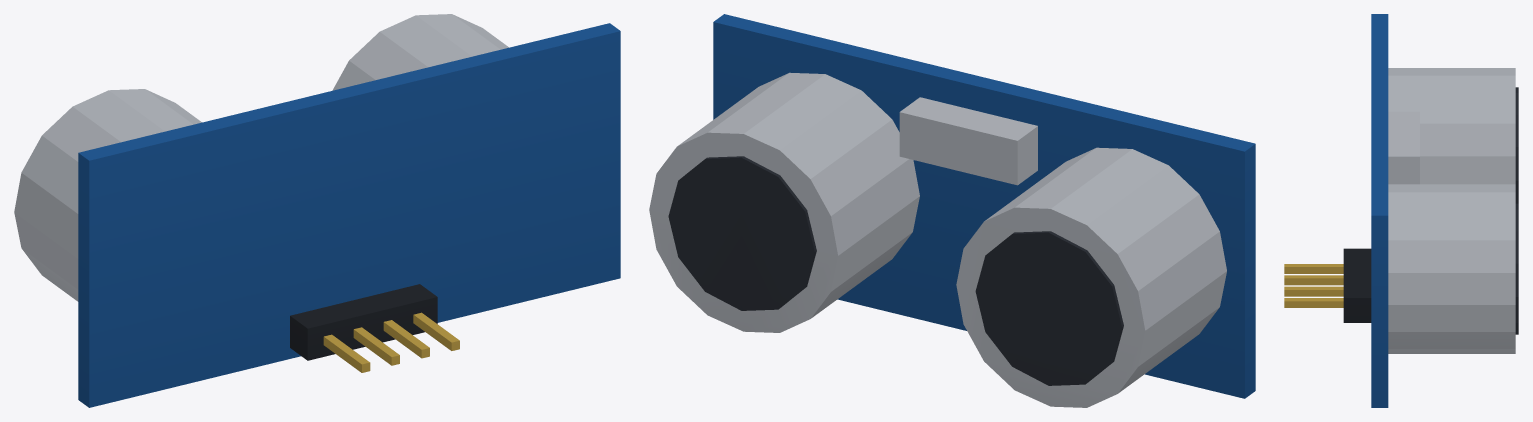
File: sensor.glb
3 views of the same model, side by side, from view 1: azimuth 30°, elevation 25°; view 2: azimuth 150°, elevation 25°; view 3: azimuth 270°, elevation 25° (orthographic). The views are drawn at different scales.
Parts seen in each view (by area): view 1: sensor; view 2: sensor; view 3: sensor.
Part boxes in pixels (x1,y1,x2,y2): sensor: (14, 14, 620, 407); sensor: (649, 14, 1255, 407); sensor: (1284, 14, 1518, 407).
Size of the model in its own units: 0.045 by 0.02 by 0.0221.
